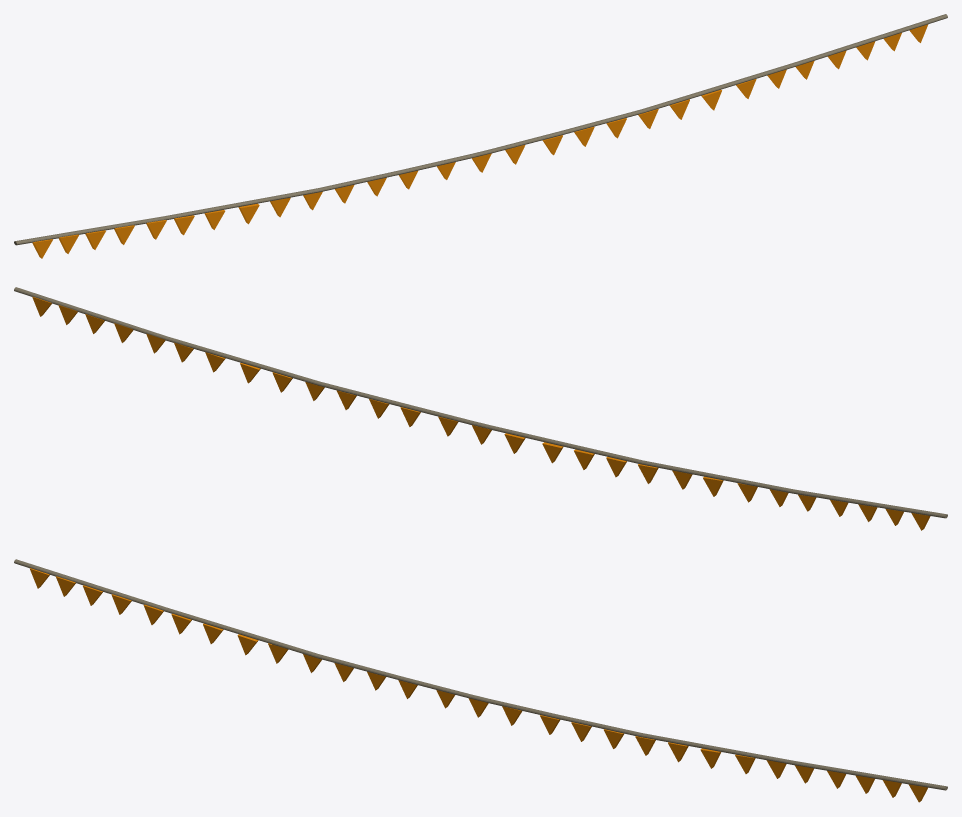
The model's file is Decoration(fix).fbx.
3 views of the same model, one above another, from view 1: azimuth 30°, elevation 25°; view 2: azimuth 150°, elevation 25°; view 3: azimuth 330°, elevation 25° (orthographic).
Visible parts, largest first — view 1: Circle.005, Cylinder; view 2: Circle.005, Cylinder; view 3: Circle.005, Cylinder.
Part boxes in pixels (bbox=[...]): Circle.005: bbox=[32, 24, 928, 258]; Cylinder: bbox=[14, 14, 947, 245]; Circle.005: bbox=[32, 296, 930, 530]; Cylinder: bbox=[14, 287, 947, 518]; Circle.005: bbox=[30, 568, 927, 802]; Cylinder: bbox=[14, 559, 947, 790].
Bounding box in the file's own units: 17837 × 794 × 142.
